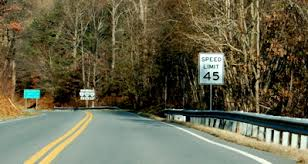speedLimit45: (198, 52, 225, 86)
